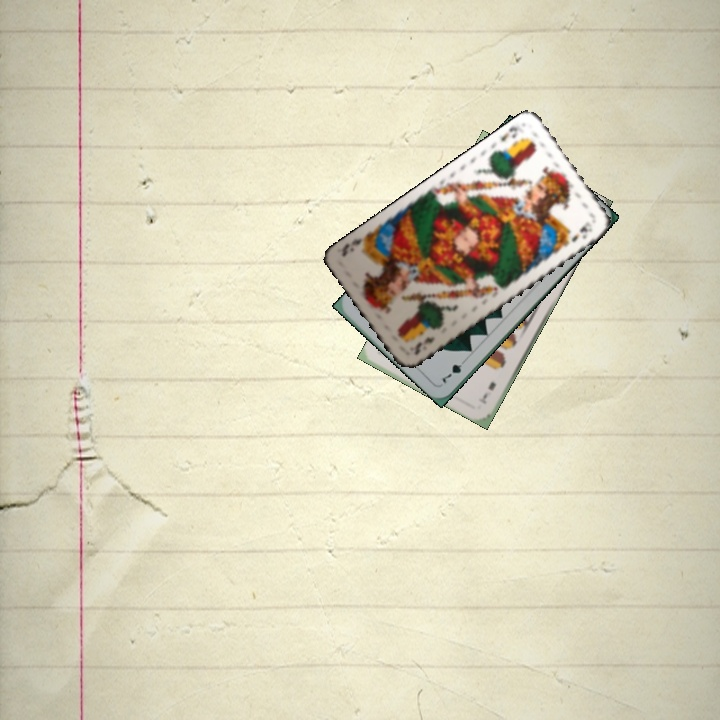E7: (475, 377, 499, 406)
EK: (405, 332, 437, 358), (497, 122, 520, 144)
G7: (438, 354, 470, 386)
